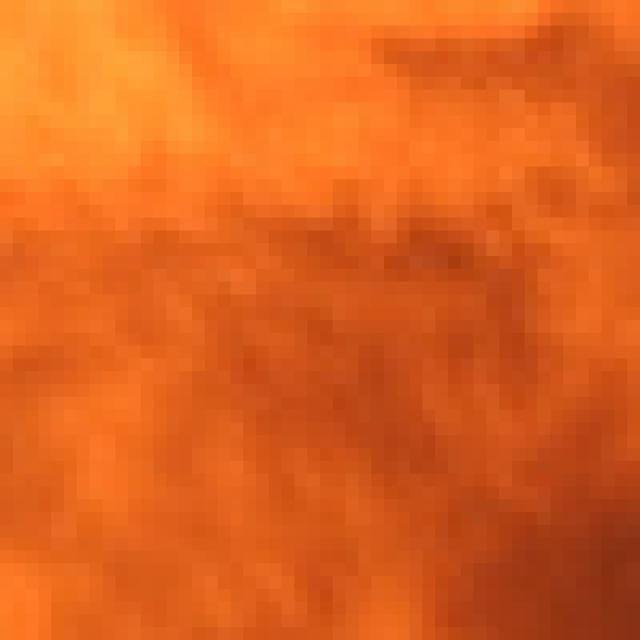fire: (0, 13, 627, 640)
